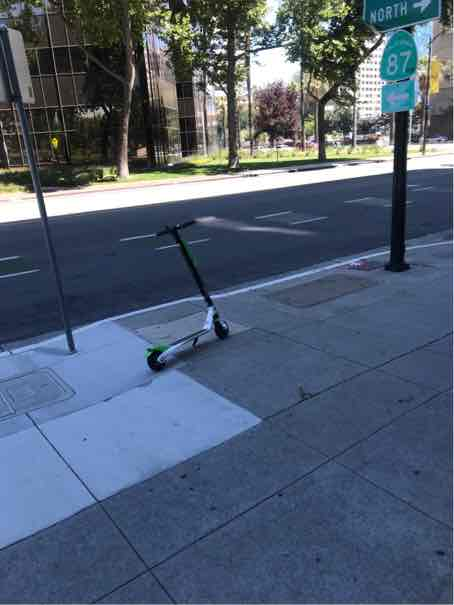scooter: (124, 211, 241, 371)
